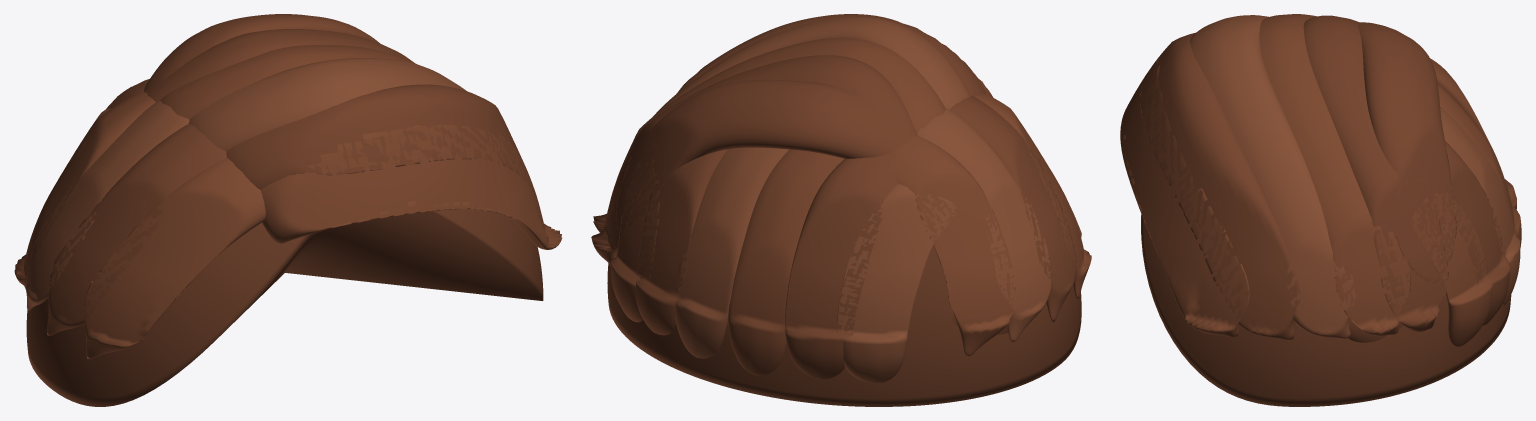
Rendered from Masculine-sidepart-beanie258-hair.glb.
3 views of the same model, side by side, from view 1: azimuth 30°, elevation 25°; view 2: azimuth 150°, elevation 25°; view 3: azimuth 270°, elevation 25° (orthographic). The views are drawn at different scales.
Parts seen in each view (by area): view 1: 226 hair / Hair258 / sculpted side sweep 1, 226 hair / Hair258 / sculpted side sweep 0, 226 hair / Hair258 / recessed roots, 226 hair / Hair258 / sculpted side sweep 2; view 2: 226 hair / Hair258 / sculpted side sweep 0, 226 hair / Hair258 / sculpted side sweep 2, 226 hair / Hair258 / sculpted side sweep 1, 226 hair / Hair258 / recessed roots; view 3: 226 hair / Hair258 / sculpted side sweep 0, 226 hair / Hair258 / sculpted side sweep 1, 226 hair / Hair258 / sculpted side sweep 2, 226 hair / Hair258 / recessed roots.
Part boxes in pixels (x1=…): 226 hair / Hair258 / sculpted side sweep 1: x1=14, y1=45, x2=562, y2=359; 226 hair / Hair258 / sculpted side sweep 0: x1=46, y1=14, x2=538, y2=335; 226 hair / Hair258 / recessed roots: x1=26, y1=209, x2=543, y2=406; 226 hair / Hair258 / sculpted side sweep 2: x1=26, y1=58, x2=466, y2=310; 226 hair / Hair258 / sculpted side sweep 0: x1=591, y1=14, x2=1076, y2=379; 226 hair / Hair258 / sculpted side sweep 2: x1=653, y1=16, x2=1052, y2=383; 226 hair / Hair258 / sculpted side sweep 1: x1=593, y1=37, x2=1091, y2=375; 226 hair / Hair258 / recessed roots: x1=607, y1=246, x2=1081, y2=406; 226 hair / Hair258 / sculpted side sweep 0: x1=1140, y1=15, x2=1516, y2=342; 226 hair / Hair258 / sculpted side sweep 1: x1=1120, y1=14, x2=1521, y2=346; 226 hair / Hair258 / sculpted side sweep 2: x1=1189, y1=15, x2=1520, y2=338; 226 hair / Hair258 / recessed roots: x1=1141, y1=214, x2=1511, y2=406.
Bounding box in the file's own units: 0.9628 × 0.5696 × 0.7579.
